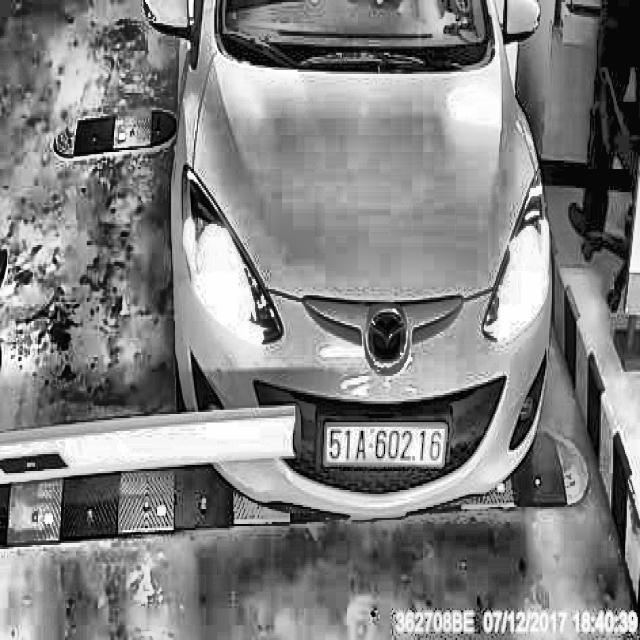plate: (321, 419, 451, 474)
